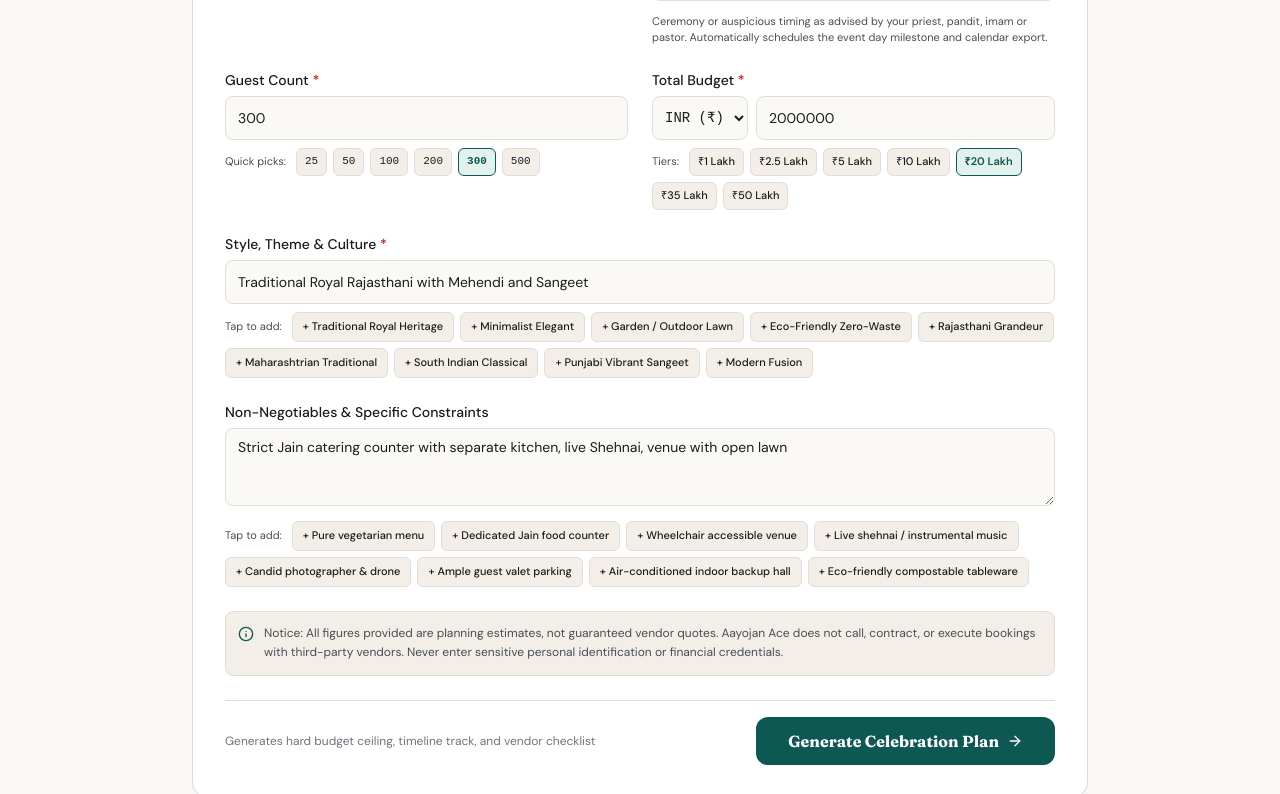
Non-blocking Follow-up and Typed Error Representation › 5. UI Error & Reference Line Display in IntakeForm and WorkspaceHeader › displays typed error code, title, and data-testid="error-reference" for AI_INVALID_KEY without High Demand wording
The width and height of the screenshot is (1280, 794).
(page scrolled)
What coordinates should you click on to do the following:
click the button "Generate Celebration Plan"
I would click on:
 (906, 740)
Its box is [756,716,1055,764].
(page scrolled)
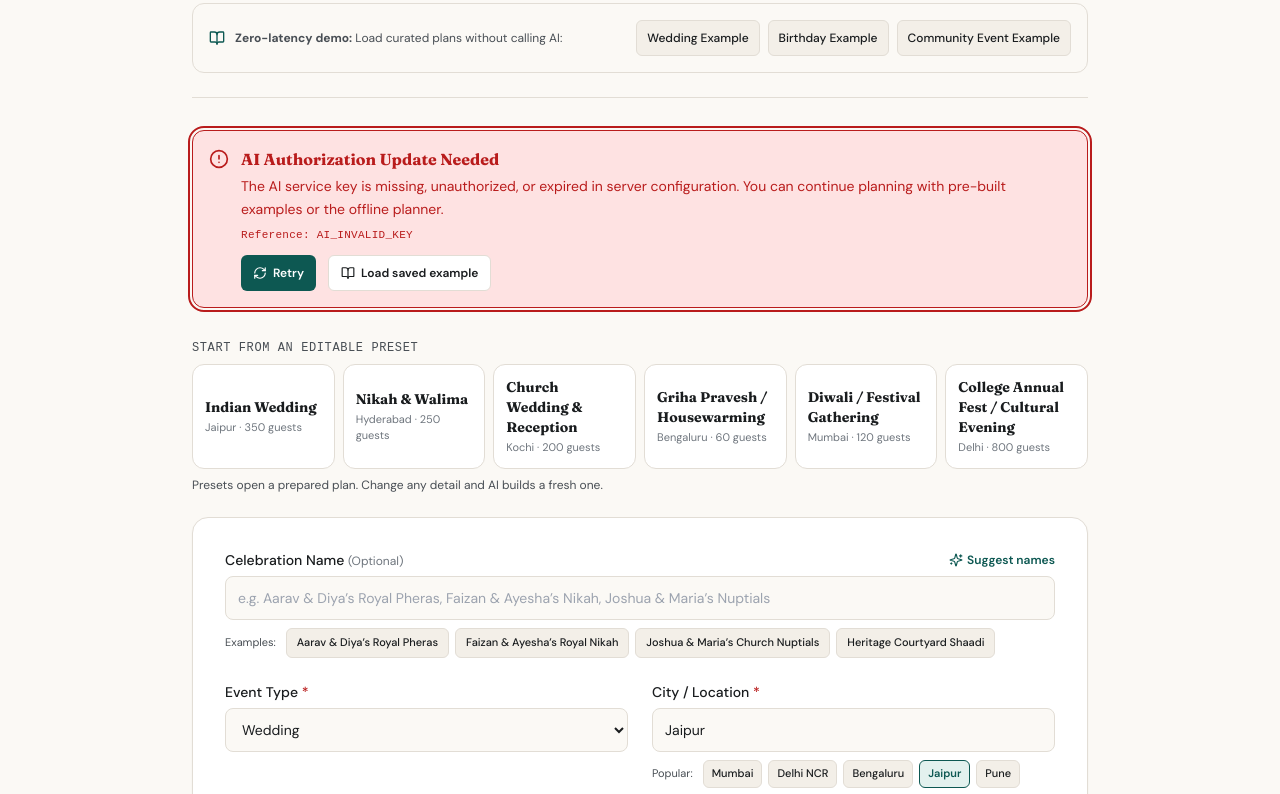
Expected: the message is shown, [192,130,1088,308]
Expected: the heading "AI Authorization Update Needed" is shown, [241,149,499,169]
Expected: the text with test id "error-reference" reads "Reference: AI_INVALID_KEY", [241,228,413,240]
